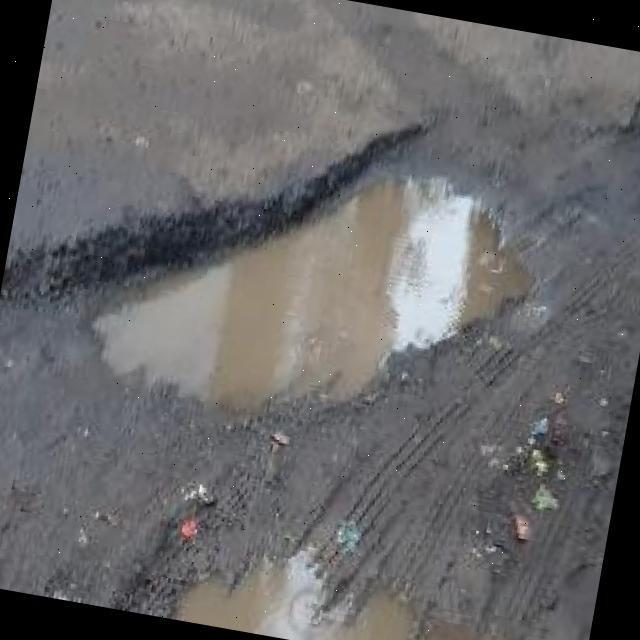stagnation: (75, 135, 582, 436)
